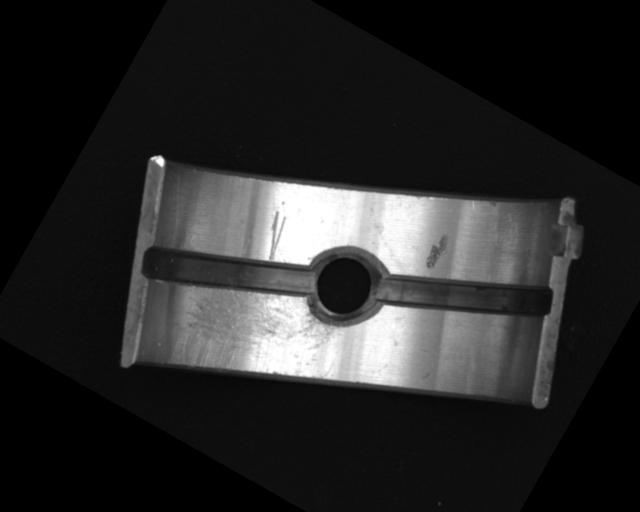bruise: (419, 229, 456, 274)
gap: (366, 212, 559, 377), (135, 195, 317, 349)
hole: (294, 236, 396, 337)
nick: (251, 208, 295, 263)
scratch: (156, 251, 351, 435)
